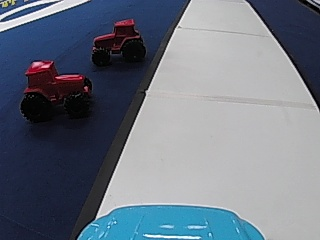Tracktor: (19, 58, 98, 123), (90, 17, 145, 65)
